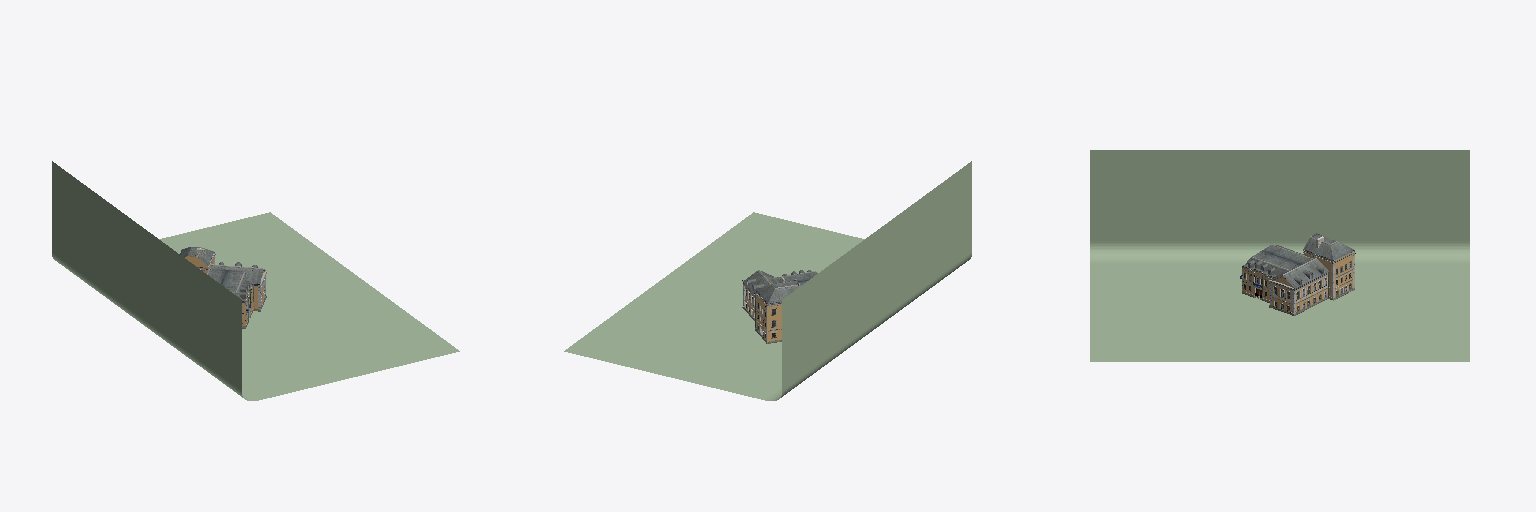
3 views of the same model, side by side, from view 1: azimuth 30°, elevation 25°; view 2: azimuth 150°, elevation 25°; view 3: azimuth 270°, elevation 25° (orthographic).
Parts seen in each view (by area): view 1: Studio, domik; view 2: Studio, domik; view 3: Studio, domik.
Part boxes in pixels (left/top/right/bottom): Studio: left=52, top=161, right=459, bottom=400; domik: left=180, top=247, right=266, bottom=328; Studio: left=564, top=161, right=971, bottom=400; domik: left=742, top=270, right=817, bottom=343; Studio: left=1090, top=150, right=1469, bottom=361; domik: left=1240, top=233, right=1355, bottom=315.
Size of the model in its own units: 7208 by 3305 by 10858.
3 materials, 2 textured.